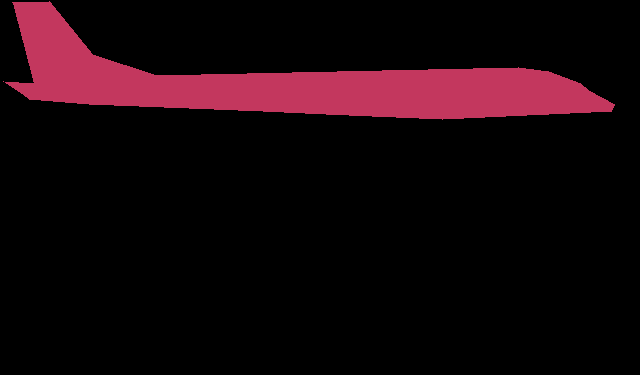Airplane: (3, 1, 614, 119)
